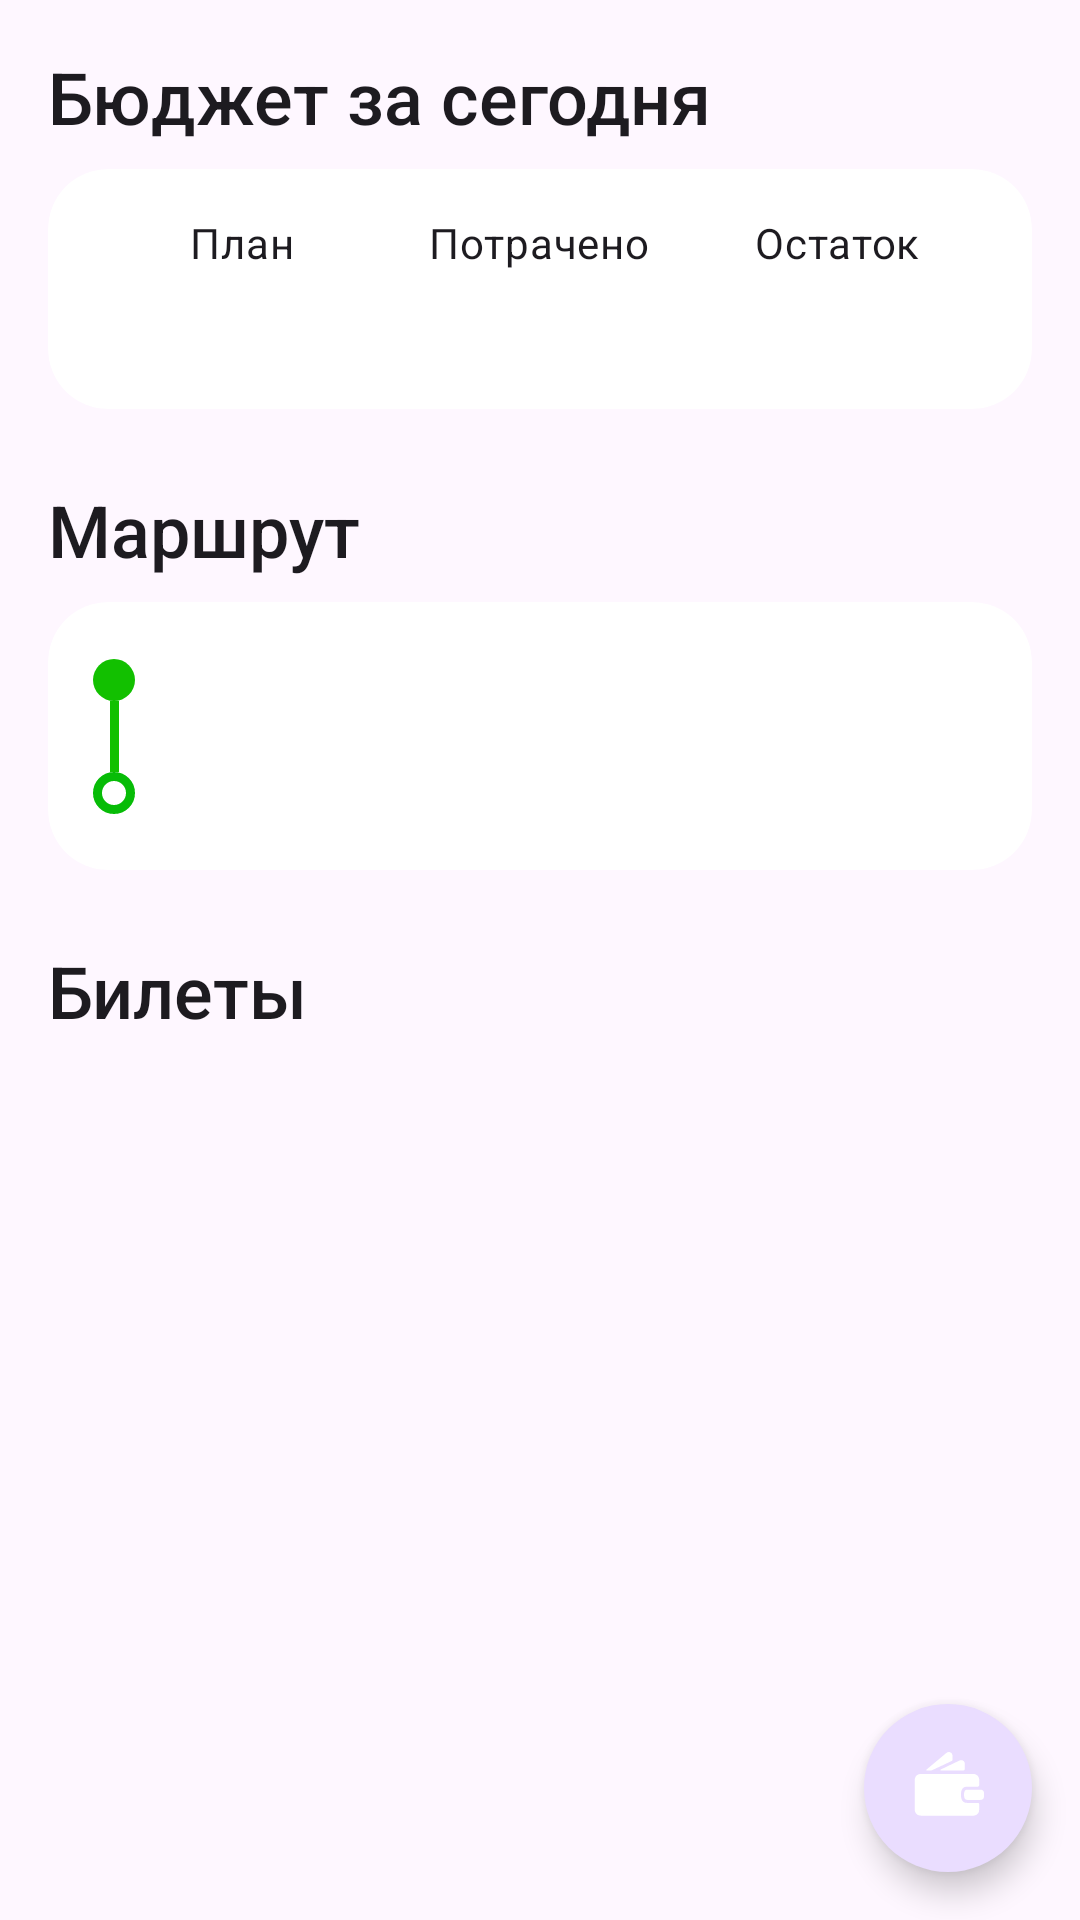

Icons on this 1080*1920 Android screen, each with the point to tap as point (x, y):
Добавить трату: point (948, 1788)
